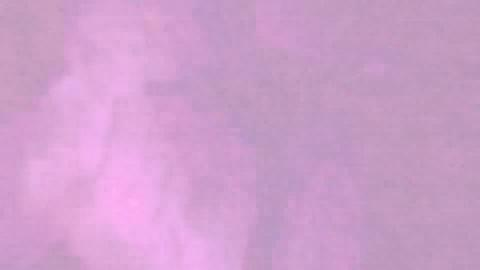tomato: (36, 99, 258, 268), (258, 138, 477, 268)
